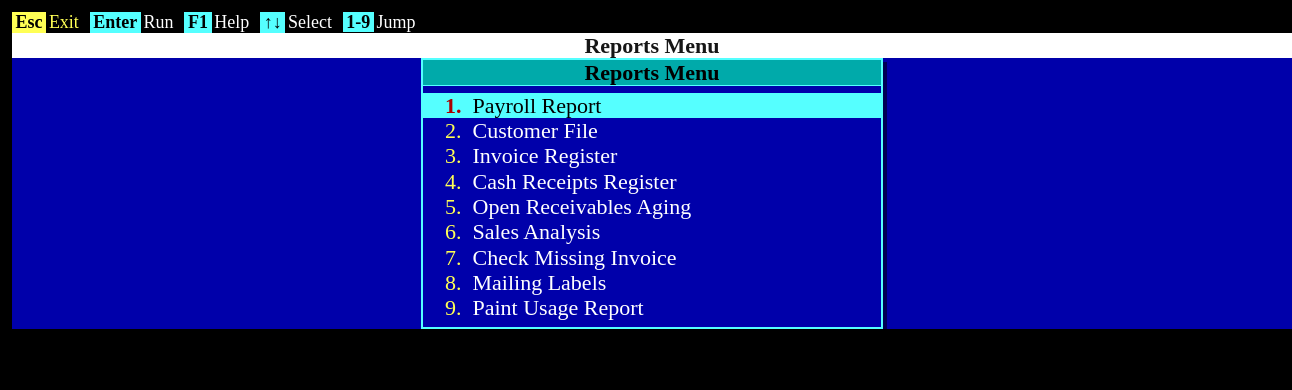
Test: ReportsScreen aging › searches cash receipts register by property address
Click the button "4.Cash Receipts Register".
click(652, 181)  # box x1=423 y1=169 x2=881 y2=194
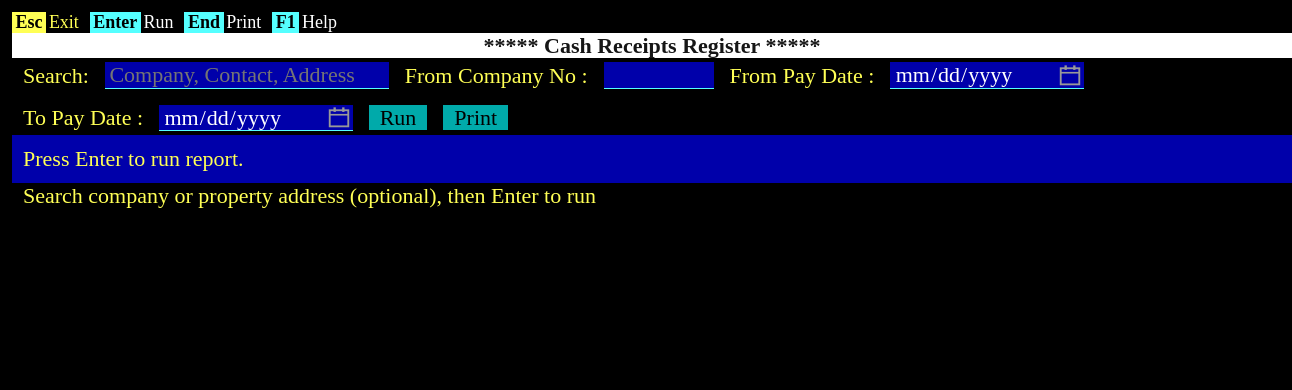
Type "MAPLE" into the field named "Cash receipts search".
click(247, 76); type("MAPLE")  # box x1=105 y1=62 x2=389 y2=89
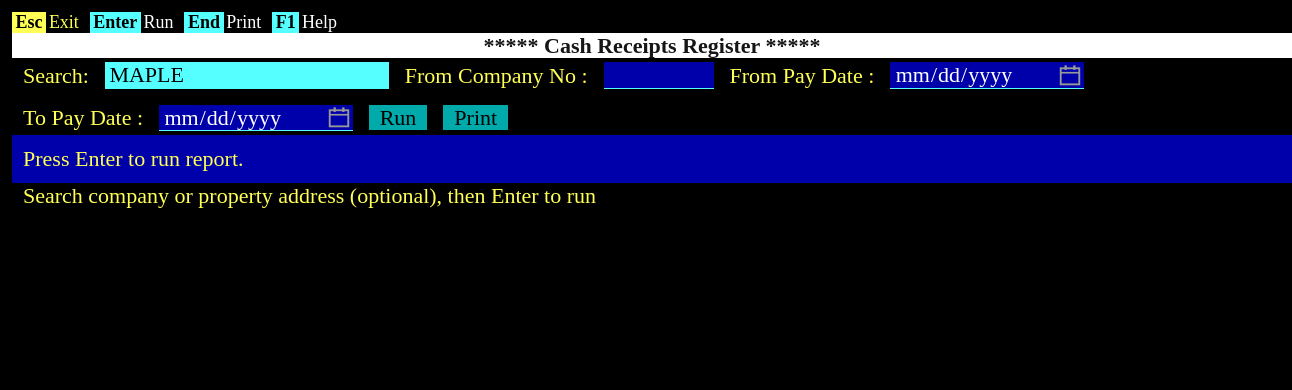
Click the button "Run".
click(398, 118)  # box x1=369 y1=105 x2=427 y2=130
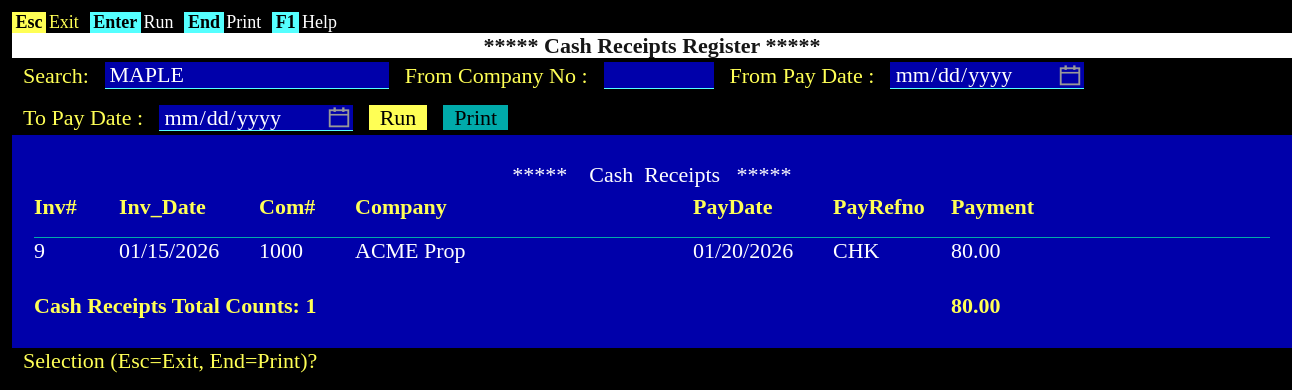
Expected: the text "ACME Prop" is shown, x1=355 y1=238 x2=466 y2=263
